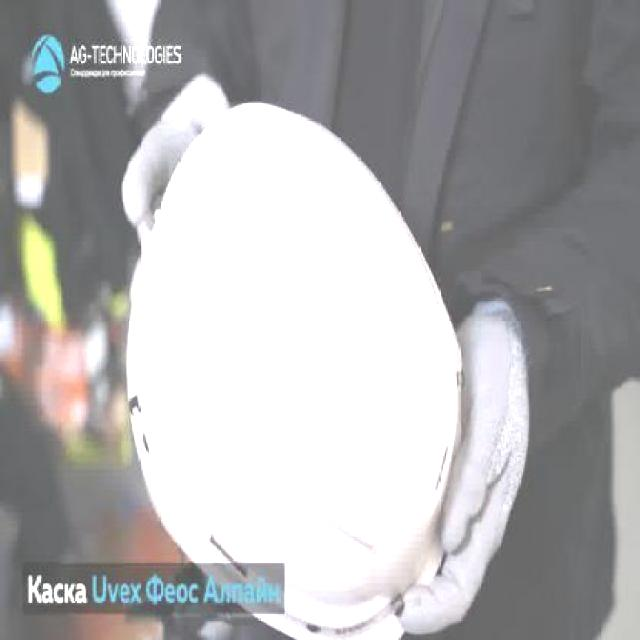Gloves: (396, 290, 533, 635), (120, 70, 234, 244)
Helmet: (124, 99, 464, 638)
